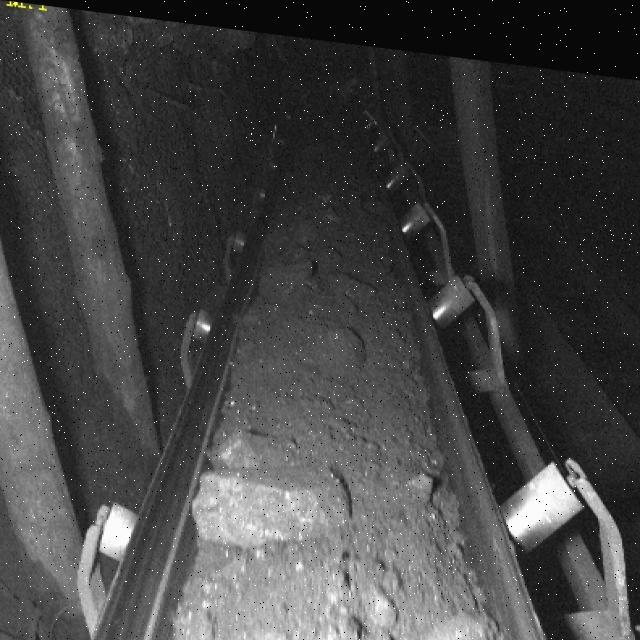large_sized_coal: (192, 454, 362, 551), (205, 424, 291, 470), (422, 590, 501, 640), (365, 571, 401, 617), (324, 603, 361, 640), (357, 611, 399, 640)
